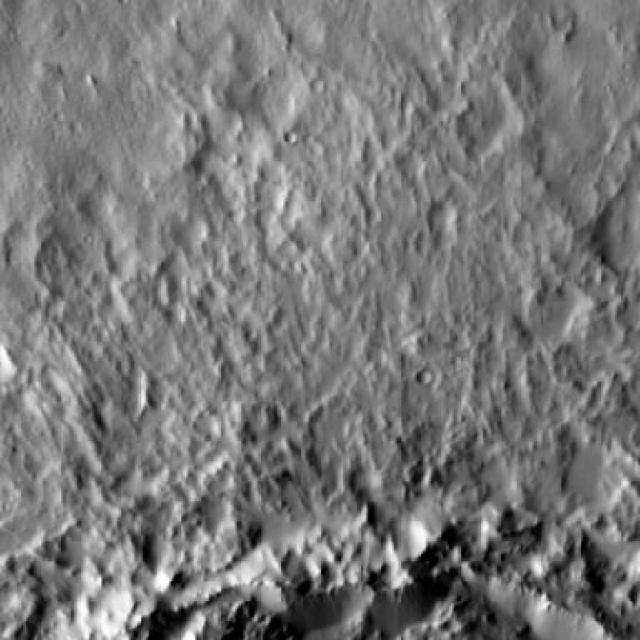crater: (591, 214, 640, 281)
